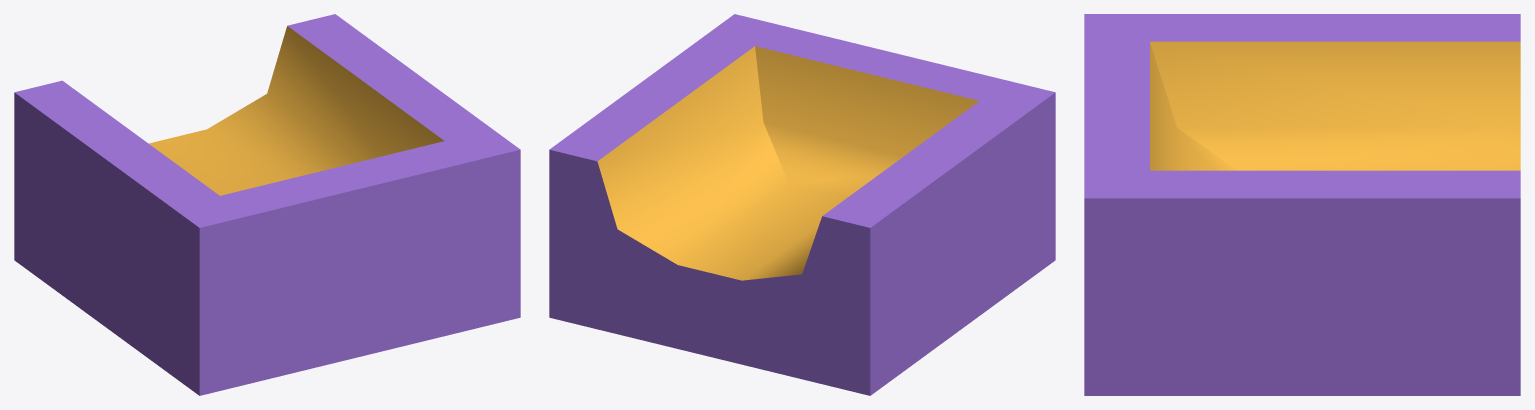
The model's file is kenney-marble-end-square.glb.
3 renders of one model, left to right at view 1: azimuth 30°, elevation 25°; view 2: azimuth 150°, elevation 25°; view 3: azimuth 270°, elevation 25°, orthographic. The views are drawn at different scales.
Parts seen in each view (by area): view 1: end-square; view 2: end-square; view 3: end-square.
Boxes of the visible parts, x1,y1,x2,y2 form: end-square: (14,14,520,395); end-square: (549,14,1055,395); end-square: (1084,14,1520,395).
Bounding box in the file's own units: 1 × 0.5001 × 1.
Materials: 1 (1 with a texture image).
